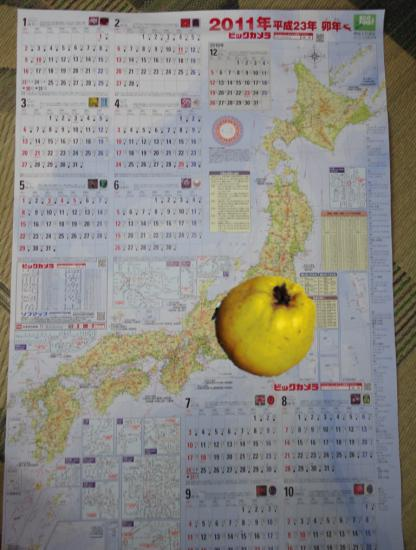Quince: (213, 273, 319, 379)
